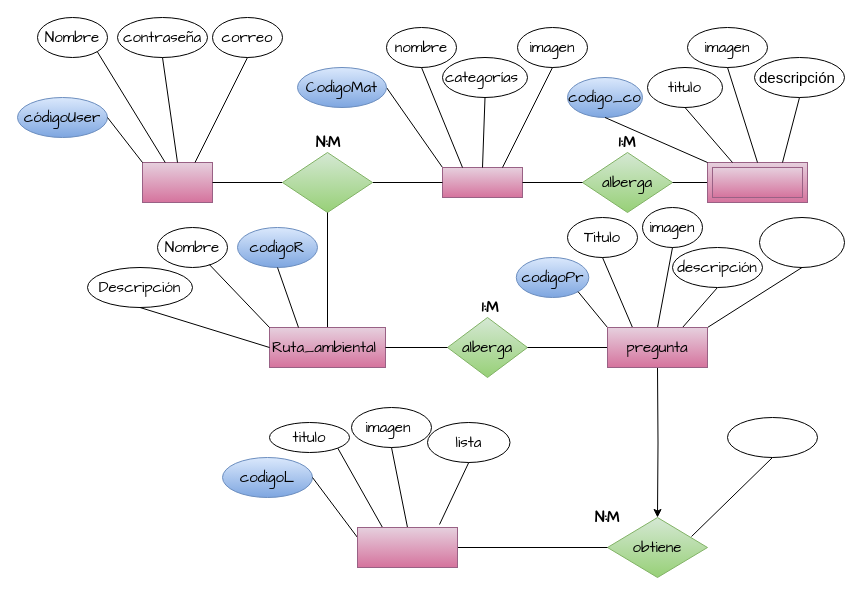
Image size: 862x595. Some labels were removed from this diagram. The centre of each missing label's shape, as x and y in pixels:
consejo: the point at 757,182
logro: the point at 407,547
material: the point at 482,182
Navega: the point at 327,182
puntuación: the point at 772,437
respuestas: the point at 801,242
usuario: the point at 177,182
